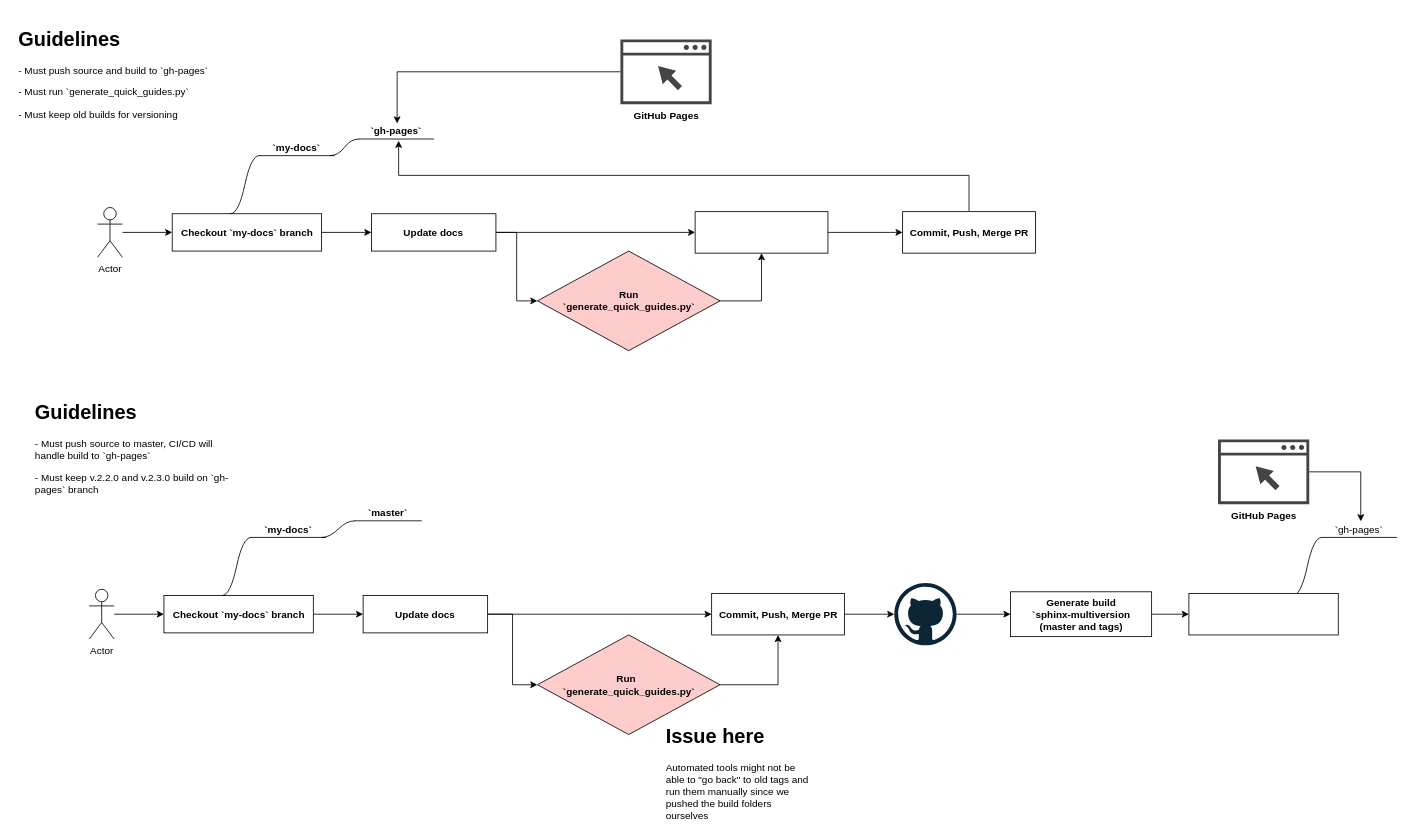
The diagram is 1411 pixels wide and 835 high, and some of its shapes have lost their labels. Here are the shapes that lost their labels. From the top down, the centre of each, then its label:
At pixel 761 232: "Generate build - `make html`".
At pixel 925 613: "GitHub Actions CI/CD".
At pixel 1263 614: "Commit and Push to `gh-pages".
